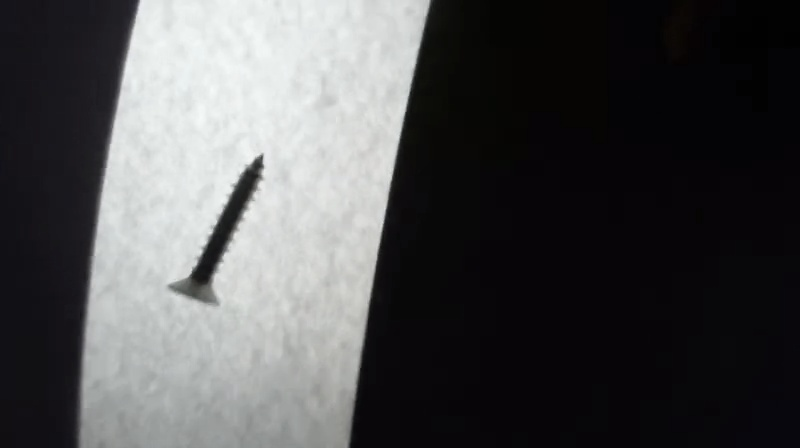S001: (161, 148, 273, 311)
